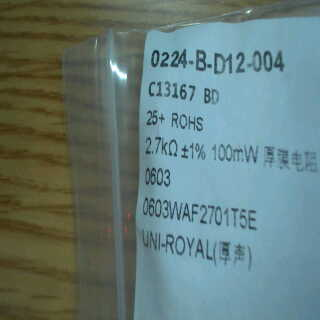2.7kR: (142, 133, 180, 162)
